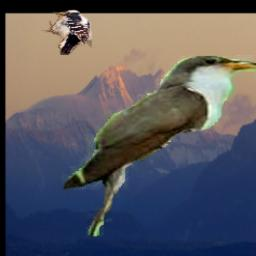Cuckoo: (59, 56, 256, 237)
Woodpecker: (42, 9, 93, 56)
